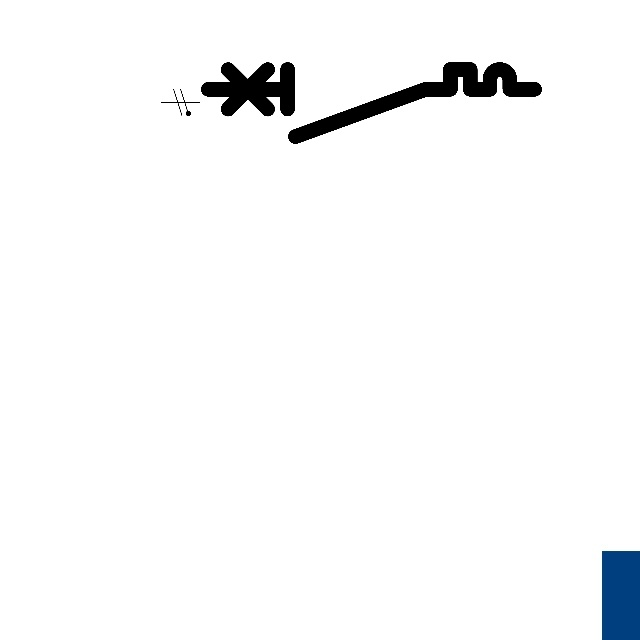interruptor_termomagnetico: (199, 61, 542, 145)
